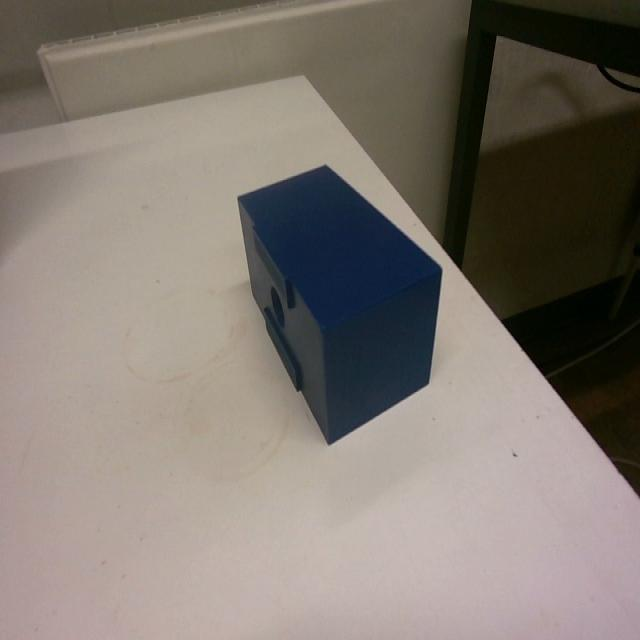Blue Cuboid: (234, 160, 444, 445)
